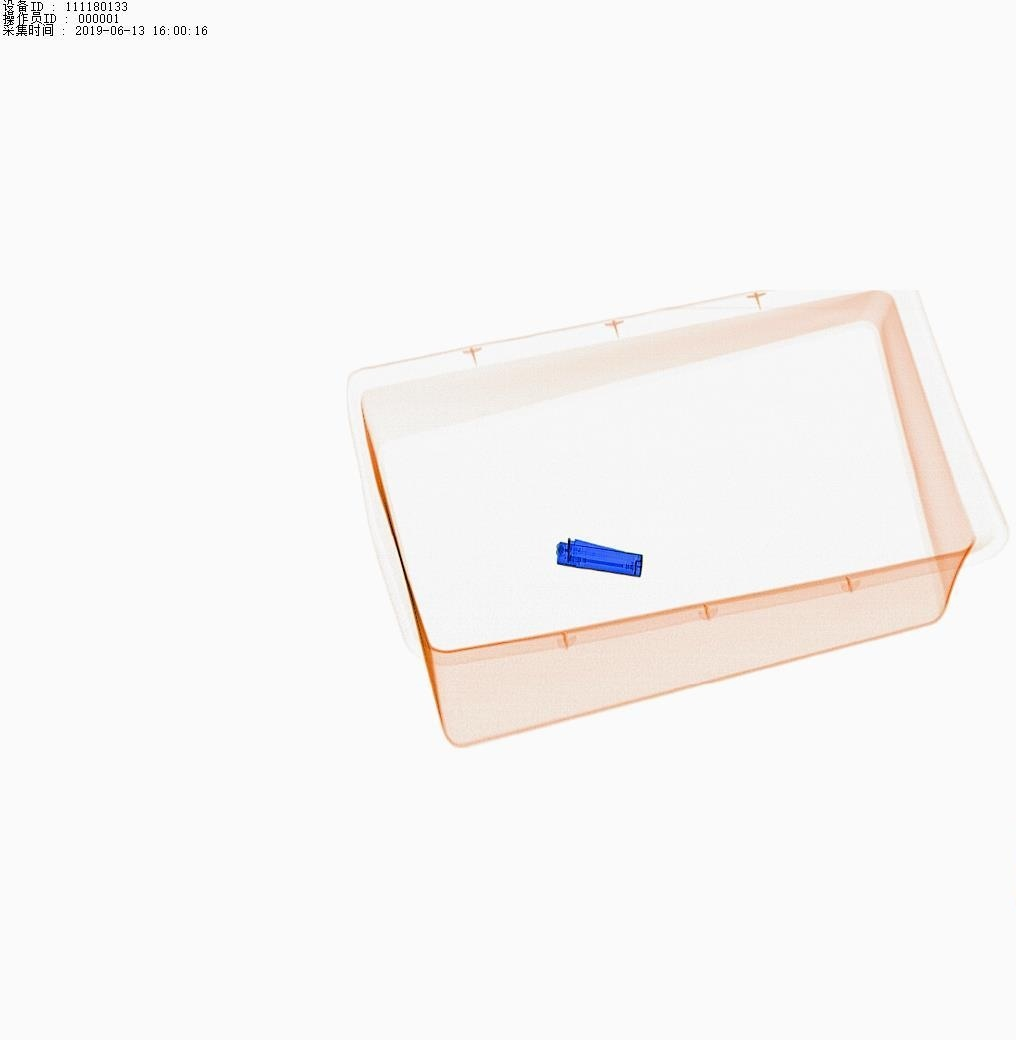NonmetallicFire: (554, 537, 653, 589)
